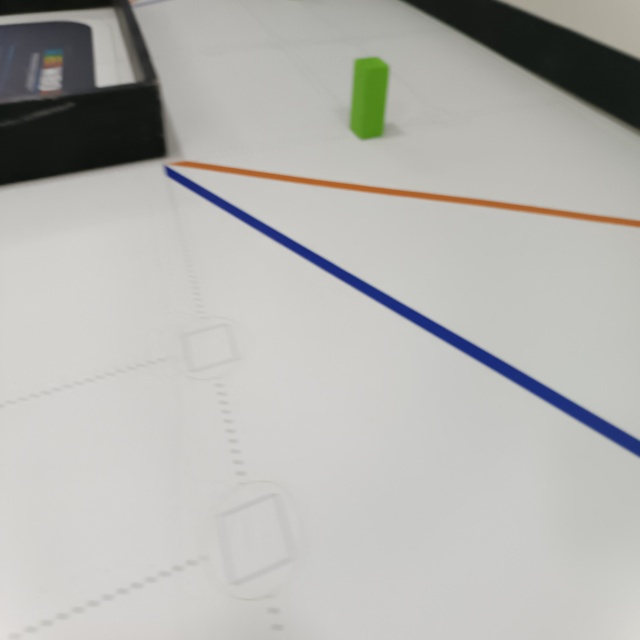blue line: (159, 167, 640, 464)
green rectangular prism: (344, 56, 394, 146)
orange line: (171, 156, 639, 231)
